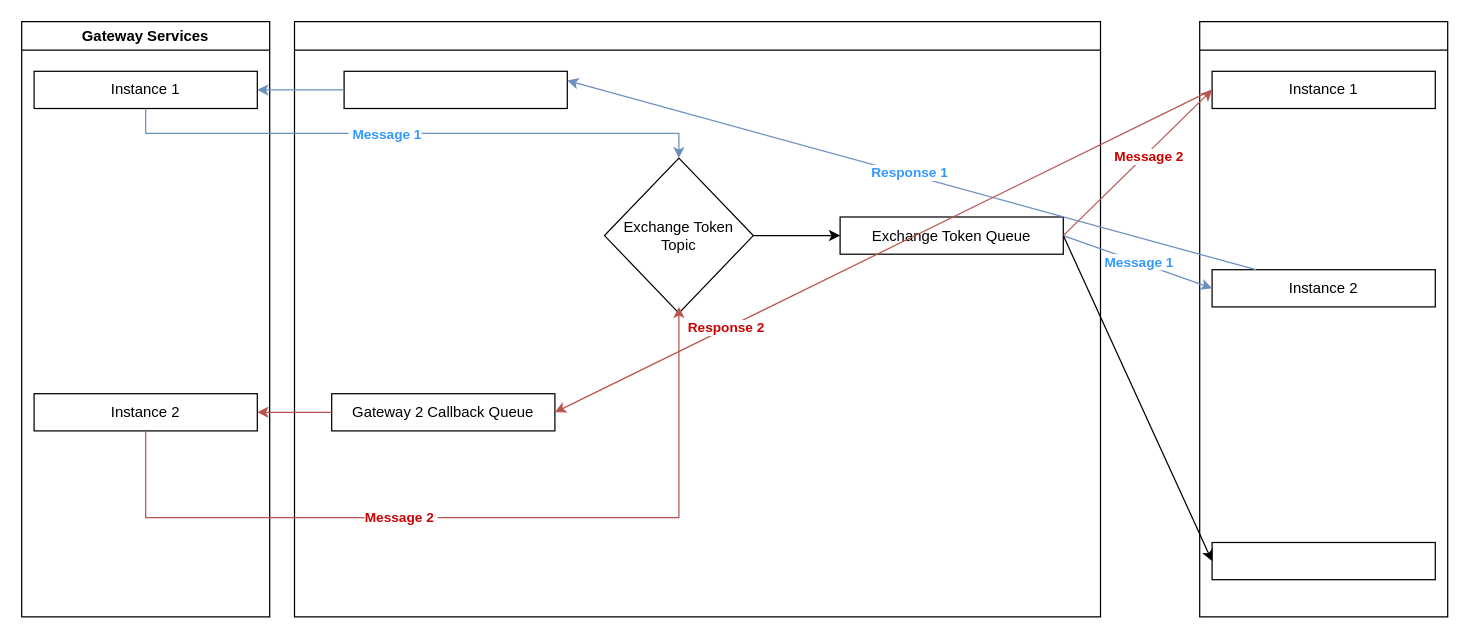
Some shapes in this 1469 by 639 pixel diagram are drawn without their labels. Each missing label, with the box of its shape:
Gateway 1 Callback Queue: (343, 70, 567, 108)
Instance 3: (1211, 541, 1435, 580)
Message Broker (RabbitMQ/Azure Service Bus): (293, 20, 1100, 617)
User Services: (1198, 20, 1448, 617)
